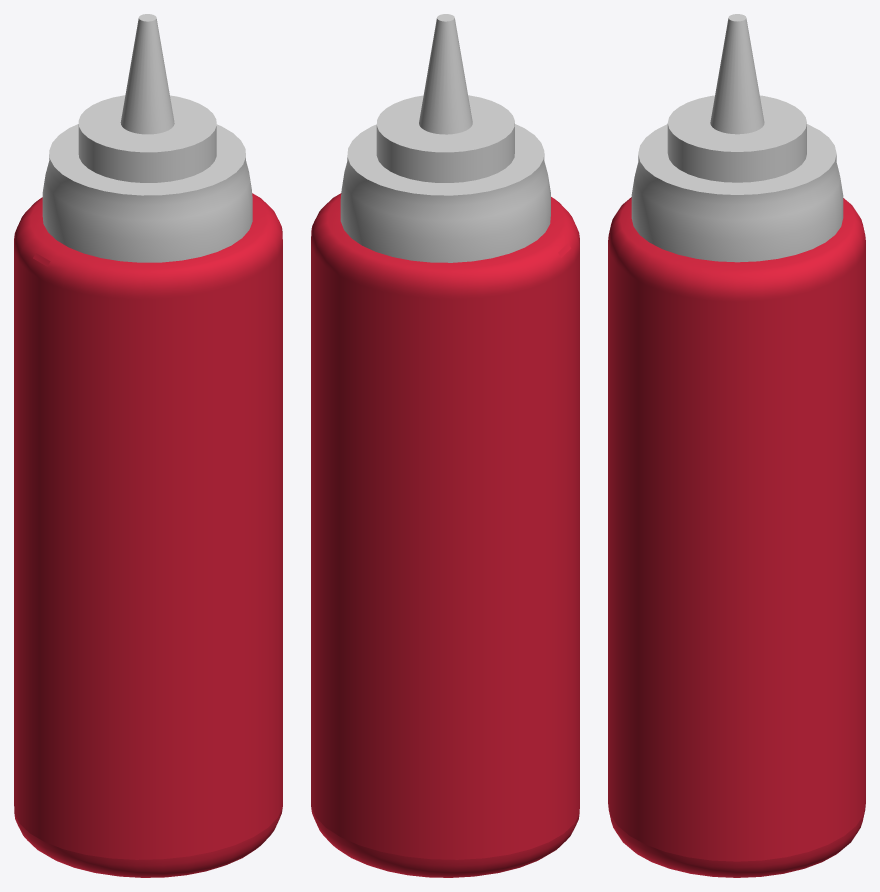
The model's file is ketchup.fbx.
The picture shows the model from 3 angles, left to right: view 1: azimuth 30°, elevation 25°; view 2: azimuth 150°, elevation 25°; view 3: azimuth 270°, elevation 25°; orthographic projection.
Visible parts, largest first — view 1: cuerpo, boca; view 2: cuerpo, boca; view 3: cuerpo, boca.
Part boxes in pixels (left/top/right/bottom): cuerpo: left=14, top=193, right=282, bottom=877; boca: left=42, top=14, right=252, bottom=262; cuerpo: left=311, top=193, right=579, bottom=877; boca: left=340, top=14, right=550, bottom=262; cuerpo: left=608, top=197, right=865, bottom=877; boca: left=631, top=14, right=843, bottom=262.
Bounding box in the file's own units: 144 × 473 × 136.
